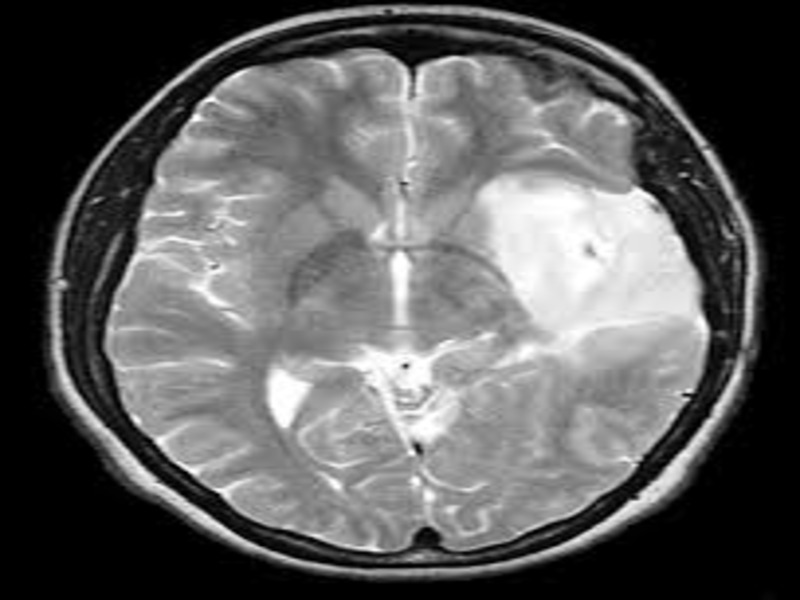tumor: (469, 166, 715, 377)
